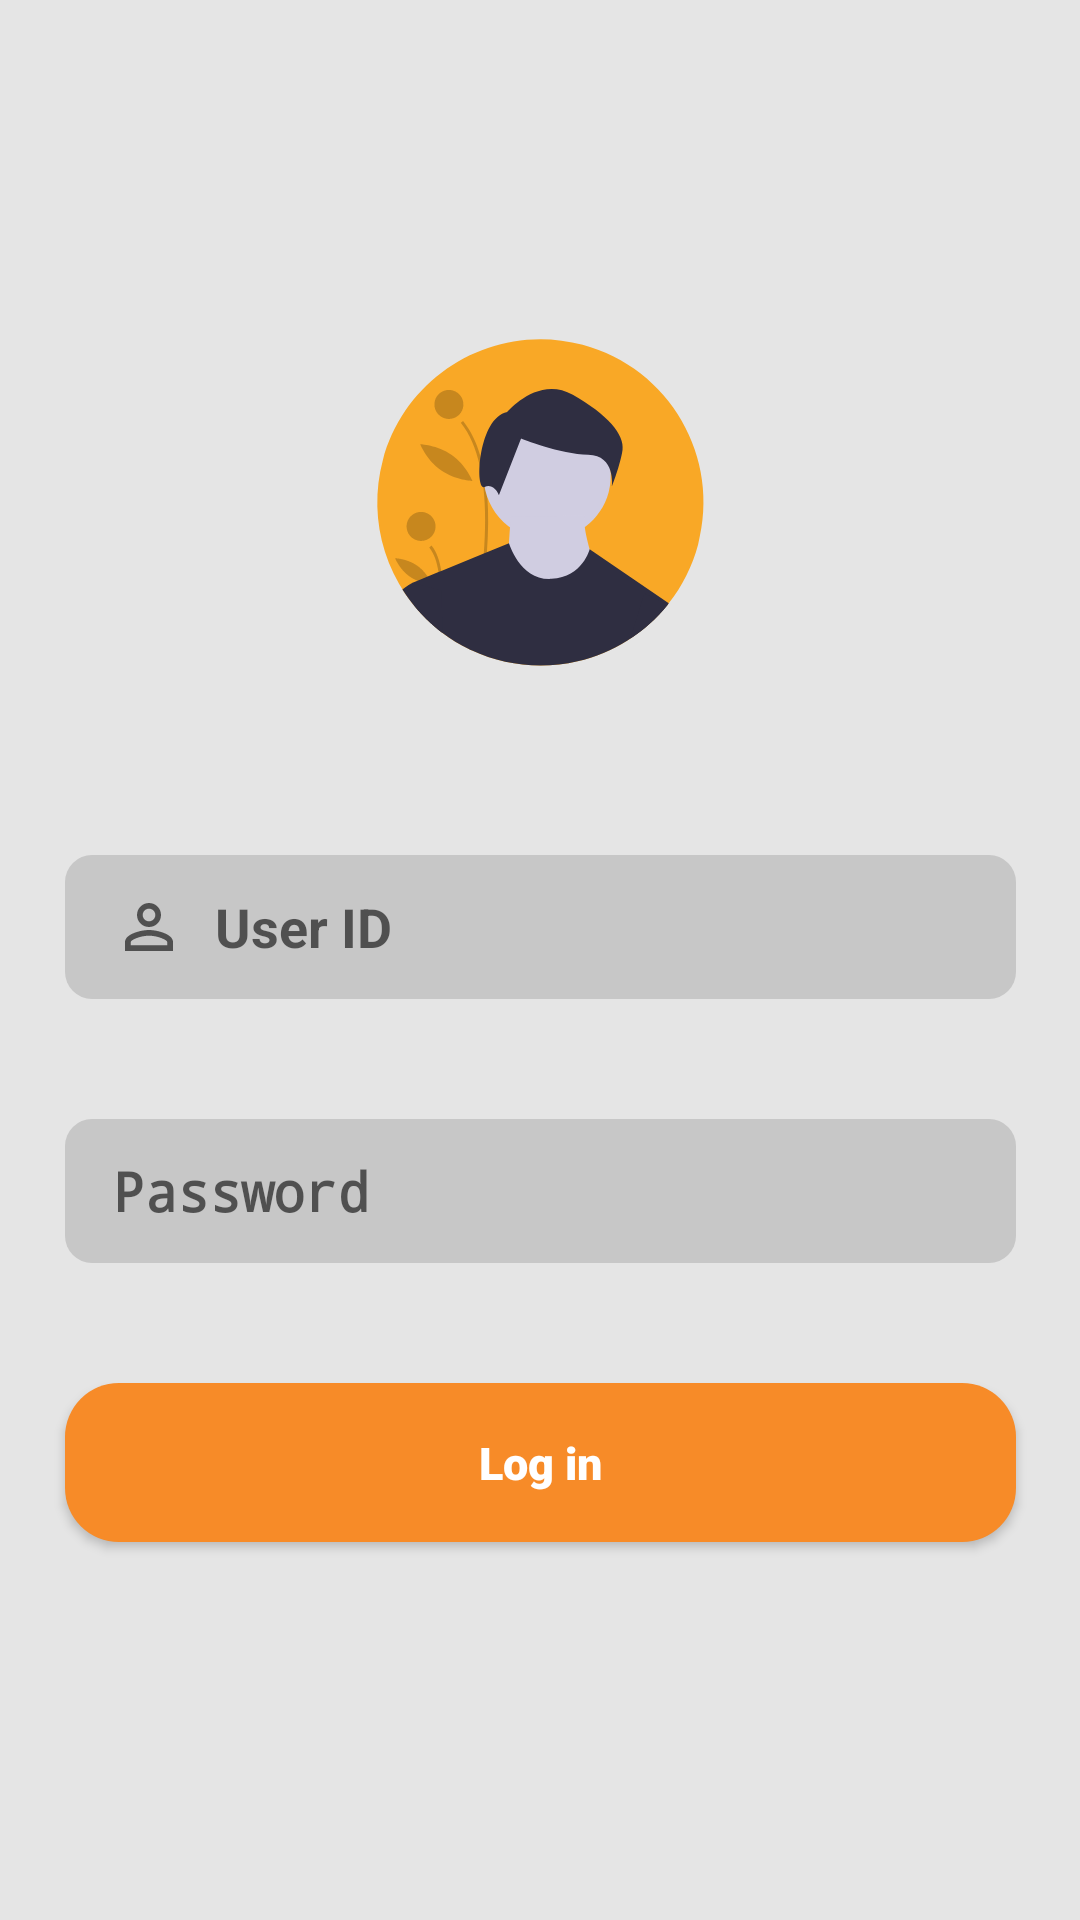

Icons on this 1080px×1920px Android screen, each with its box as [left=x1, top=y1, right=x2, bottom=y2]:
Operator Login Image: [left=377, top=339, right=704, bottom=666]
